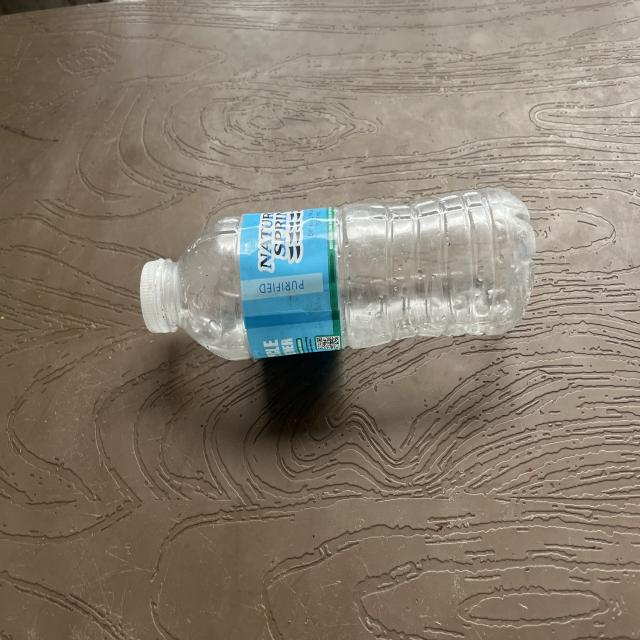REJECT: (86, 181, 577, 375)
